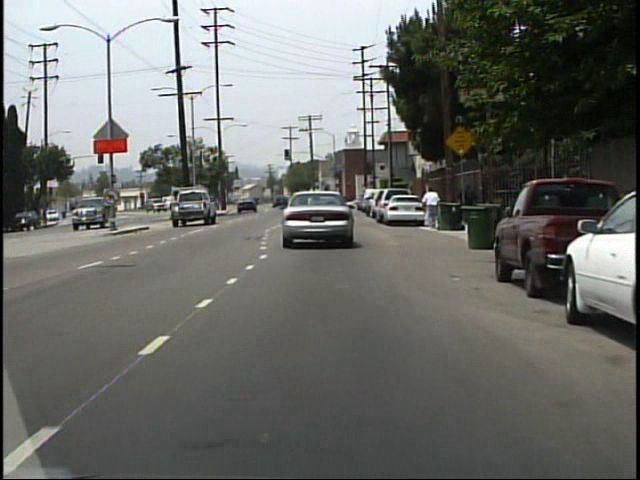person: (421, 187, 441, 233)
